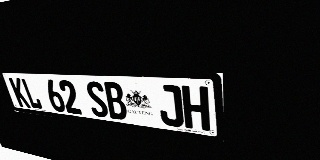2: (57, 80, 82, 115)
6: (43, 79, 67, 113)
B: (102, 82, 128, 121)
H: (181, 85, 210, 131)
J: (156, 84, 184, 128)
K: (8, 77, 31, 108)
L: (20, 78, 43, 110)
S: (84, 81, 110, 118)
